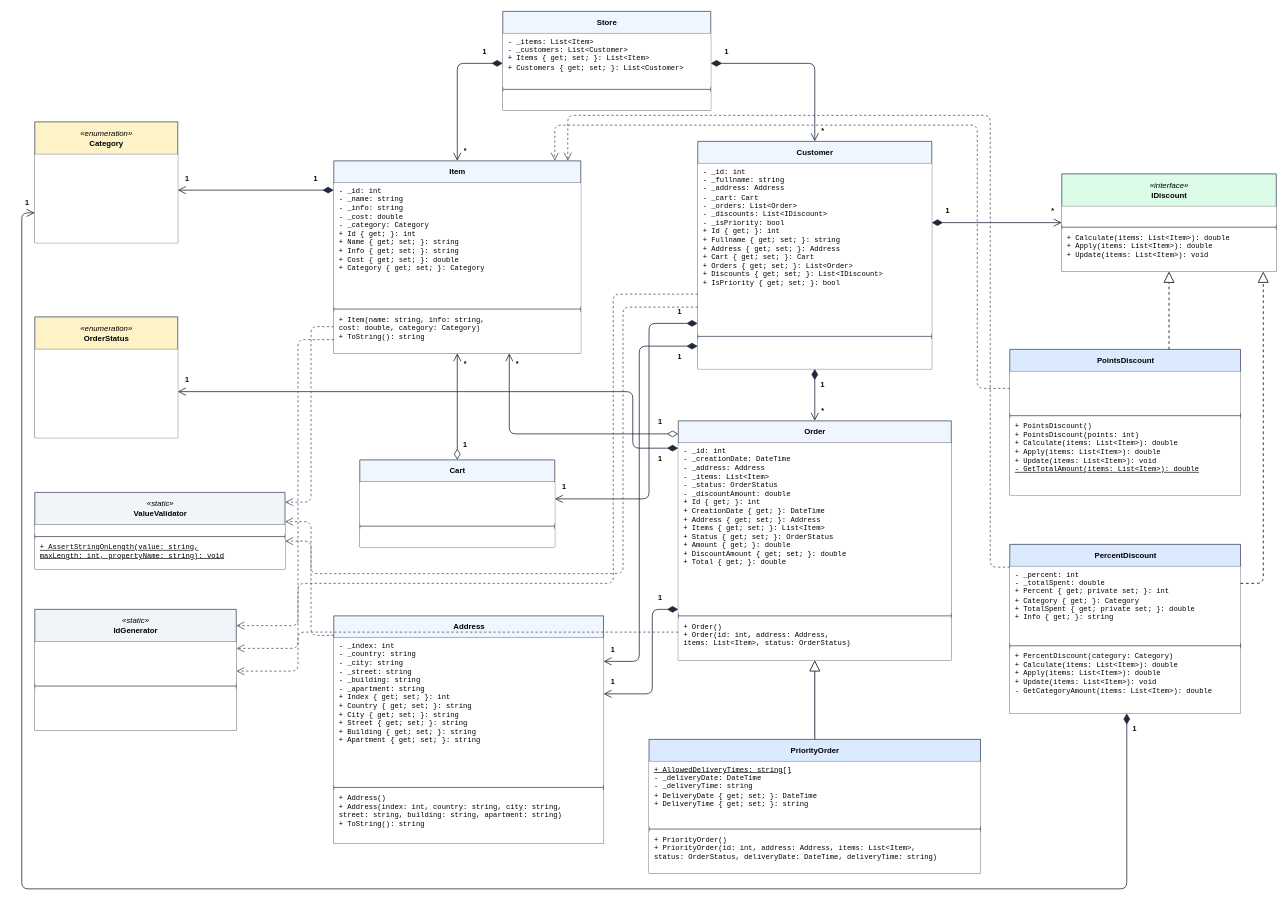
This 1288x912 diagram has some shape labels left out. Here are the shapes that lost their labels. From the top down, the centre of each, then its label:
At (x=606, y=101): "+ Store()".
At (x=105, y=198): "Electronics Clothes Shoes Books Food Sport Home".
At (x=1168, y=215): "+ Info { get; }: string".
At (x=814, y=354): "+ Customer(fullname: string) + ToString(): string".
At (x=105, y=393): "New Processing Assembly Sent Delivered Returned Abandoned".
At (x=1124, y=392): "- _points: int + Points { get; private set; }: int + Info { get; }: string".
At (x=456, y=502): "- _items: List<Item> + Items { get; set; }: List<Item> + Amount { get; }: double".
At (x=456, y=537): "+ Cart()".
At (x=135, y=662): "- _nextItemId: int - _nextCustomerId: int - _nextOrderId: int".
At (x=135, y=709): "+ GetNextItemId(): int + GetNextCustomerId(): int + GetNextOrderId(): int".
